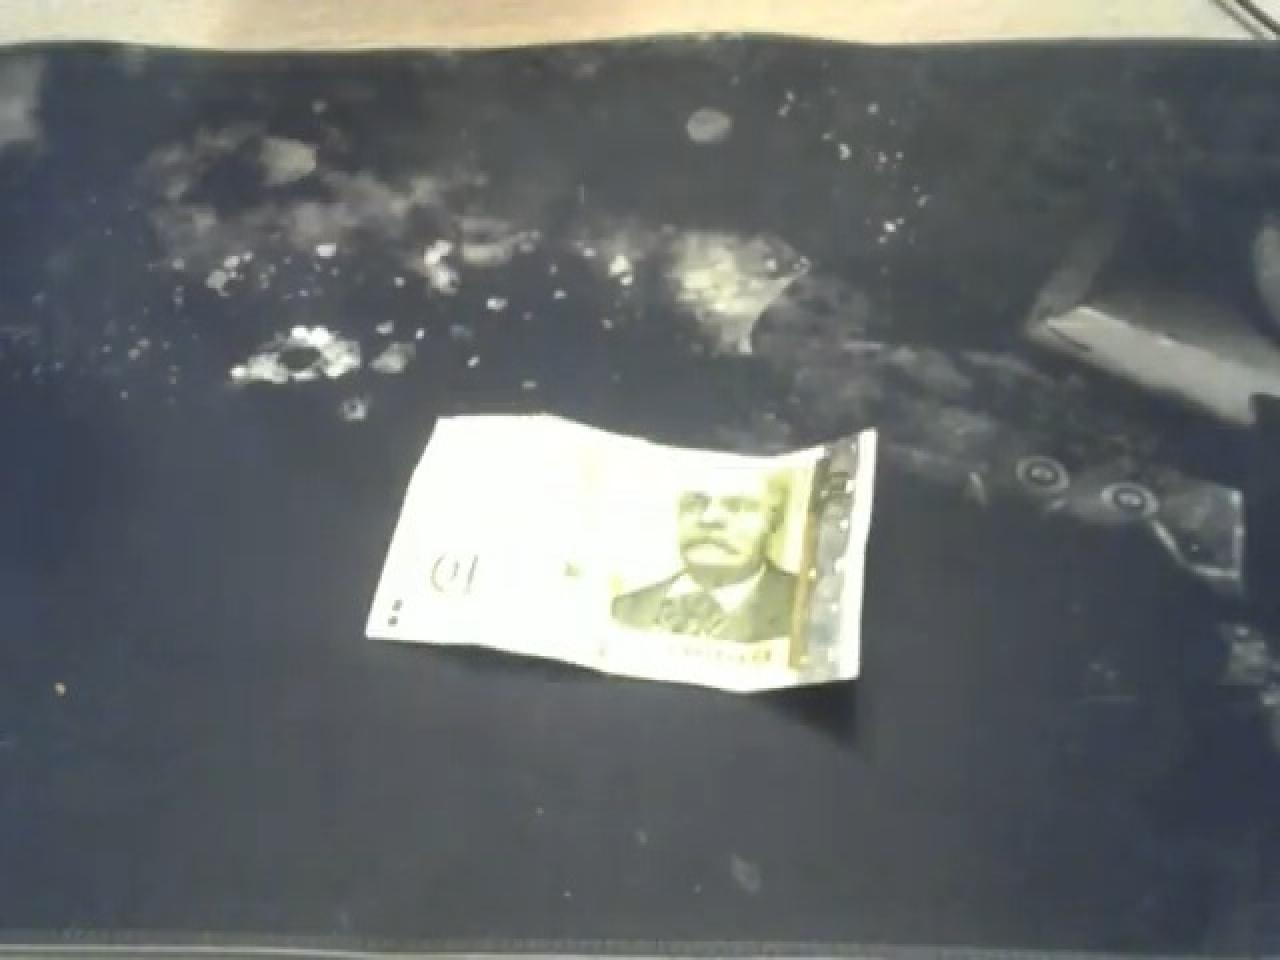10leva: (364, 408, 882, 696)
